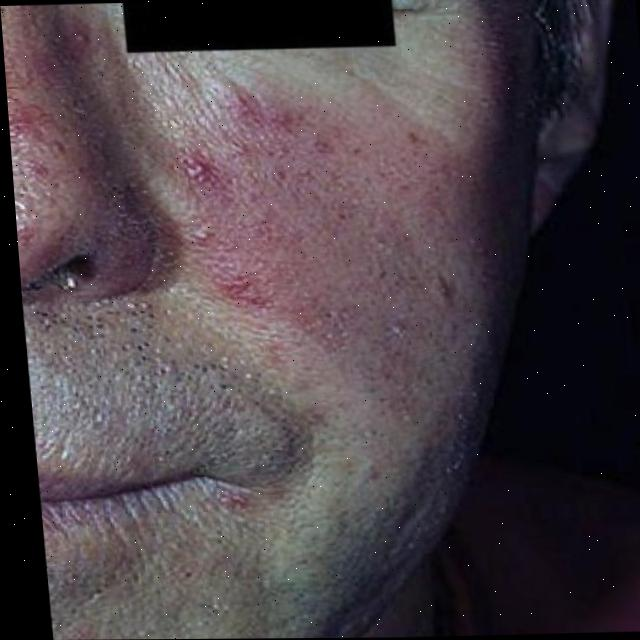Rosacea: (171, 53, 415, 357), (4, 59, 59, 186)
